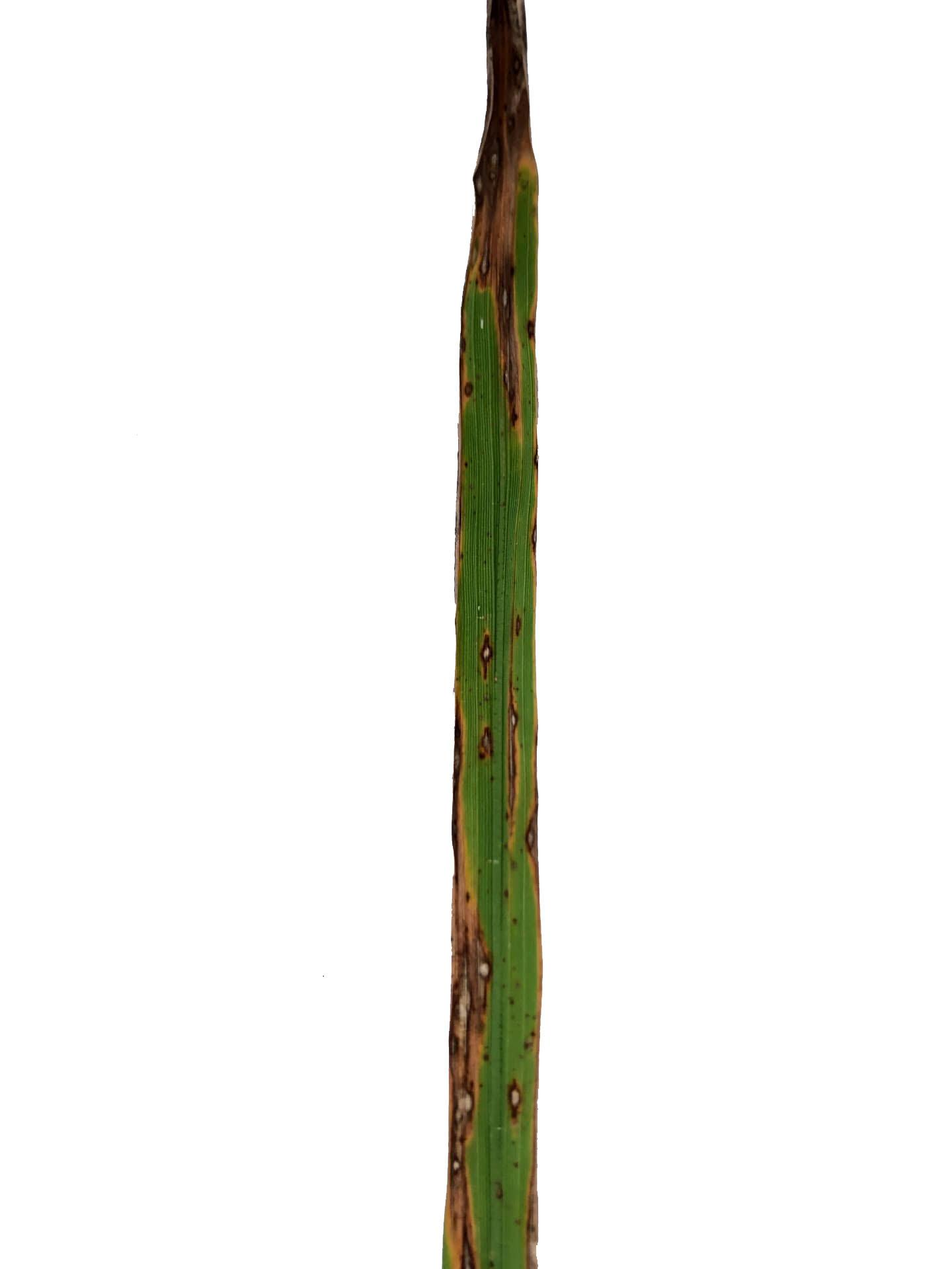Rice blast: (466, 0, 533, 292), (448, 900, 492, 1144), (443, 1141, 484, 1269), (449, 691, 470, 898), (494, 249, 519, 349), (502, 1071, 538, 1137), (522, 773, 540, 892), (505, 679, 516, 818), (528, 1132, 537, 1266), (472, 626, 496, 675), (474, 725, 498, 771)
